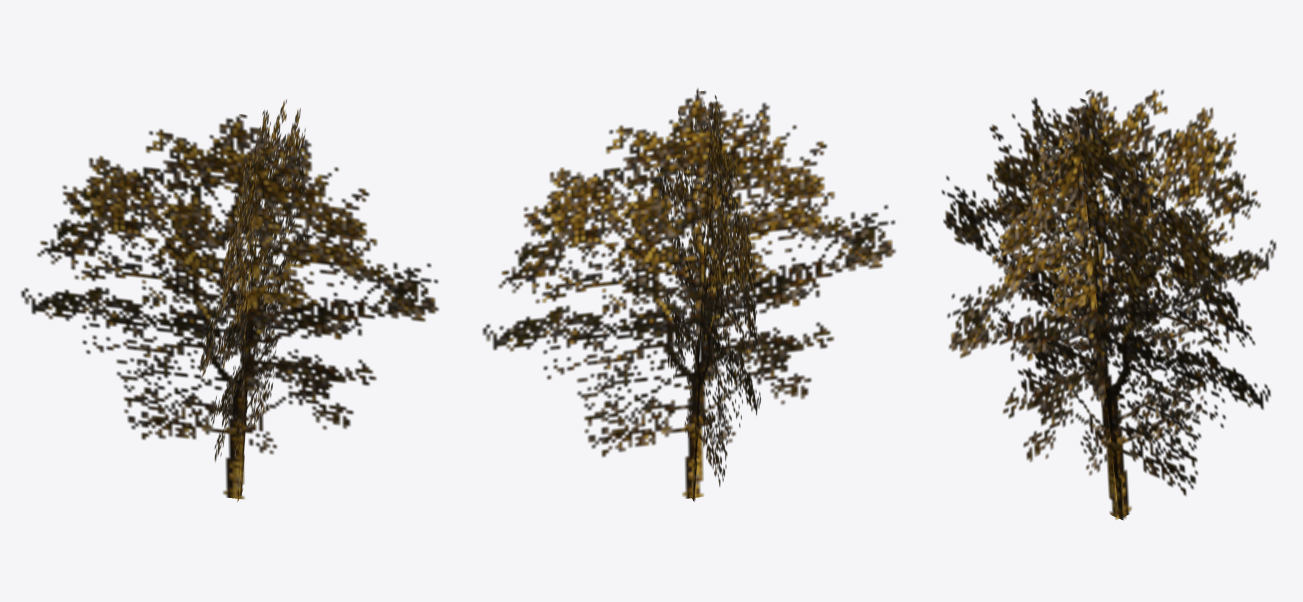
Rendered from tree025.glb.
3 views of the same model, side by side, from view 1: azimuth 30°, elevation 25°; view 2: azimuth 150°, elevation 25°; view 3: azimuth 270°, elevation 25° (orthographic). The views are drawn at different scales.
Visible parts, largest first — view 1: tree025; view 2: tree025; view 3: tree025.
Part boxes in pixels (x1,y1,x2,y2): tree025: [21, 99, 438, 501]; tree025: [482, 88, 895, 501]; tree025: [941, 89, 1276, 520].
Bounding box in the file's own units: 2.44 × 3.1 × 2.3.
1 material, 1 textured.
